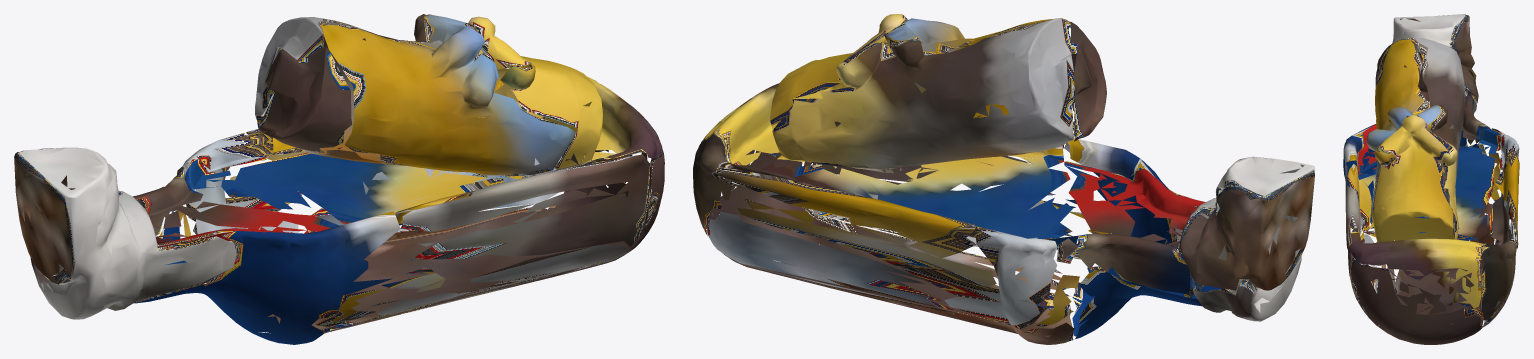
The model's file is glas-flaschenpost.glb.
3 views of the same model, side by side, from view 1: azimuth 30°, elevation 25°; view 2: azimuth 150°, elevation 25°; view 3: azimuth 270°, elevation 25° (orthographic). The views are drawn at different scales.
Visible parts, largest first — view 1: glas-flaschenpost; view 2: glas-flaschenpost; view 3: glas-flaschenpost.
Part boxes in pixels (left/top/right/bottom): glas-flaschenpost: left=14, top=14, right=664, bottom=344; glas-flaschenpost: left=693, top=14, right=1314, bottom=344; glas-flaschenpost: left=1343, top=14, right=1519, bottom=344.
Bounding box in the file's own units: 0.1286 × 0.0656 × 0.0485.
Materials: 1 (1 with a texture image).
